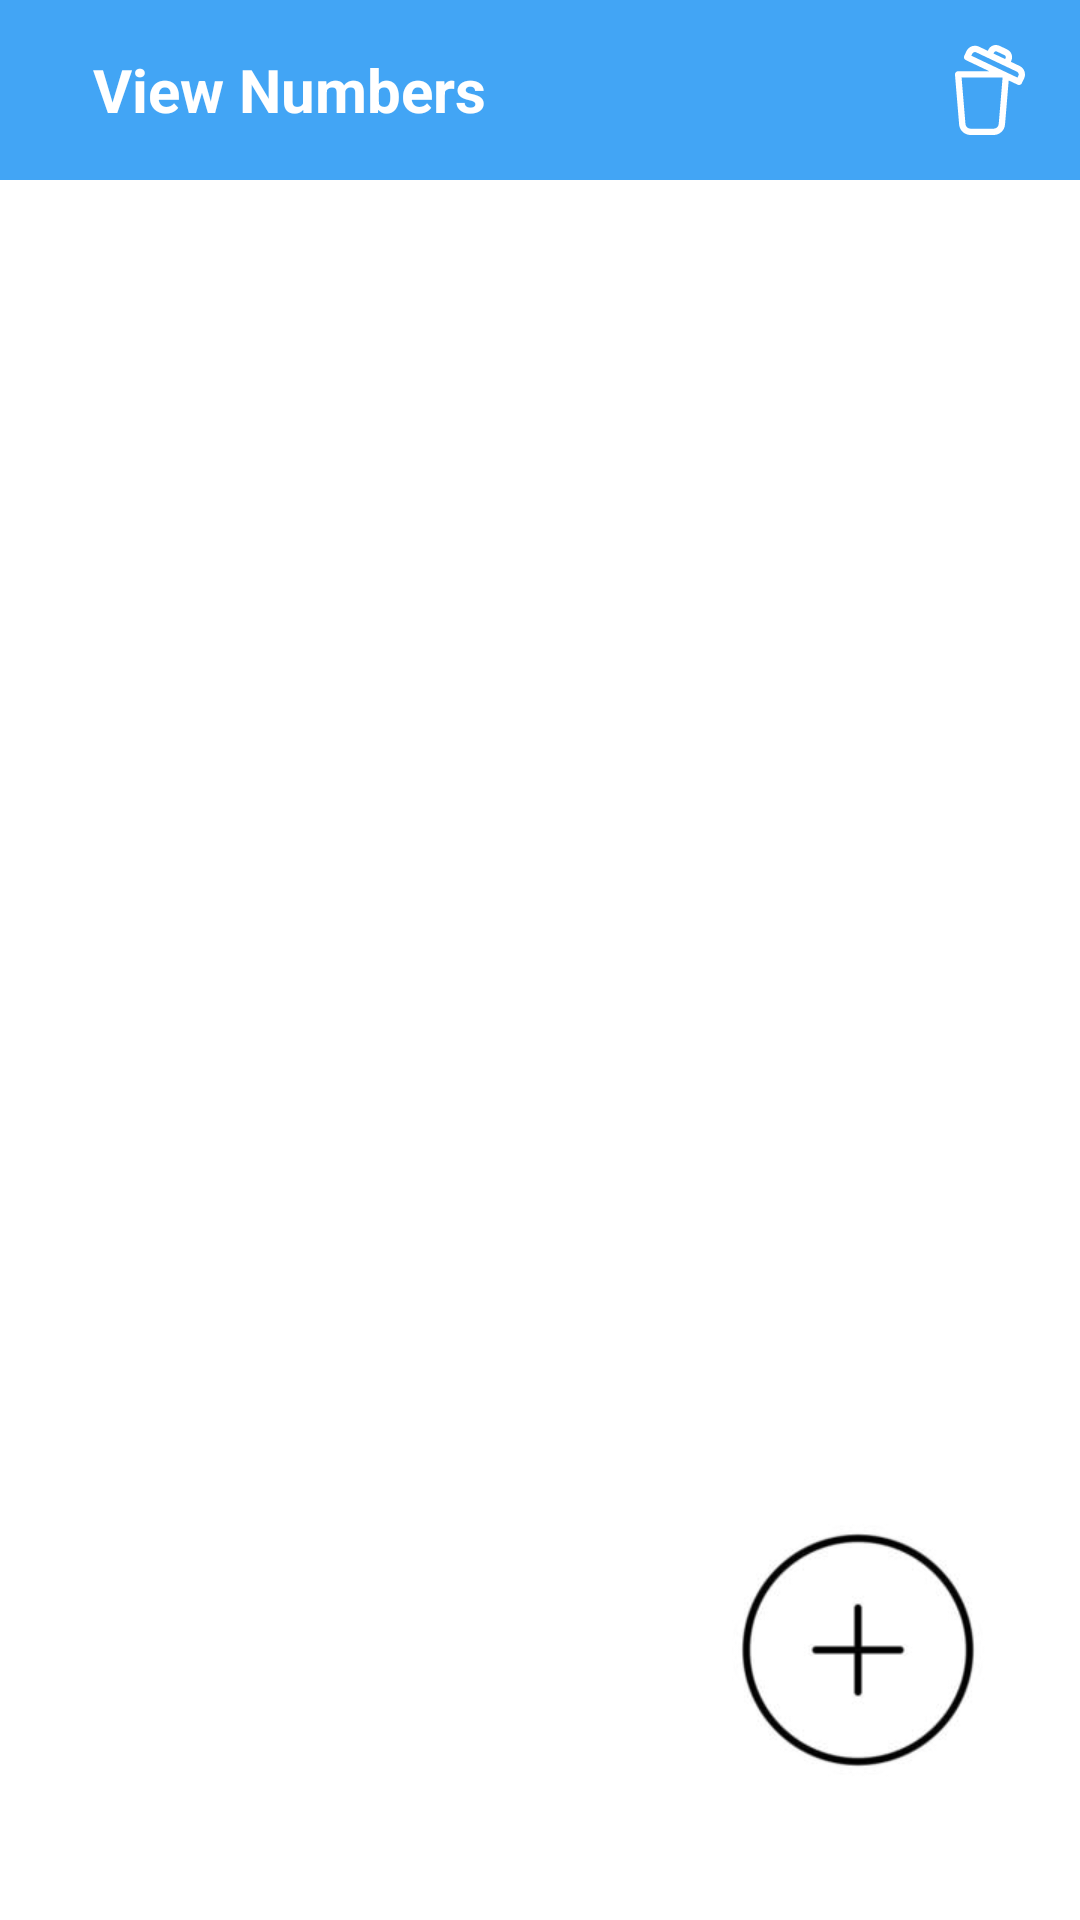

Icons on this 1080 x 1920 Android screen, each with its box as (x1, y1, x2, y2):
delete: (955, 45, 1025, 135)
